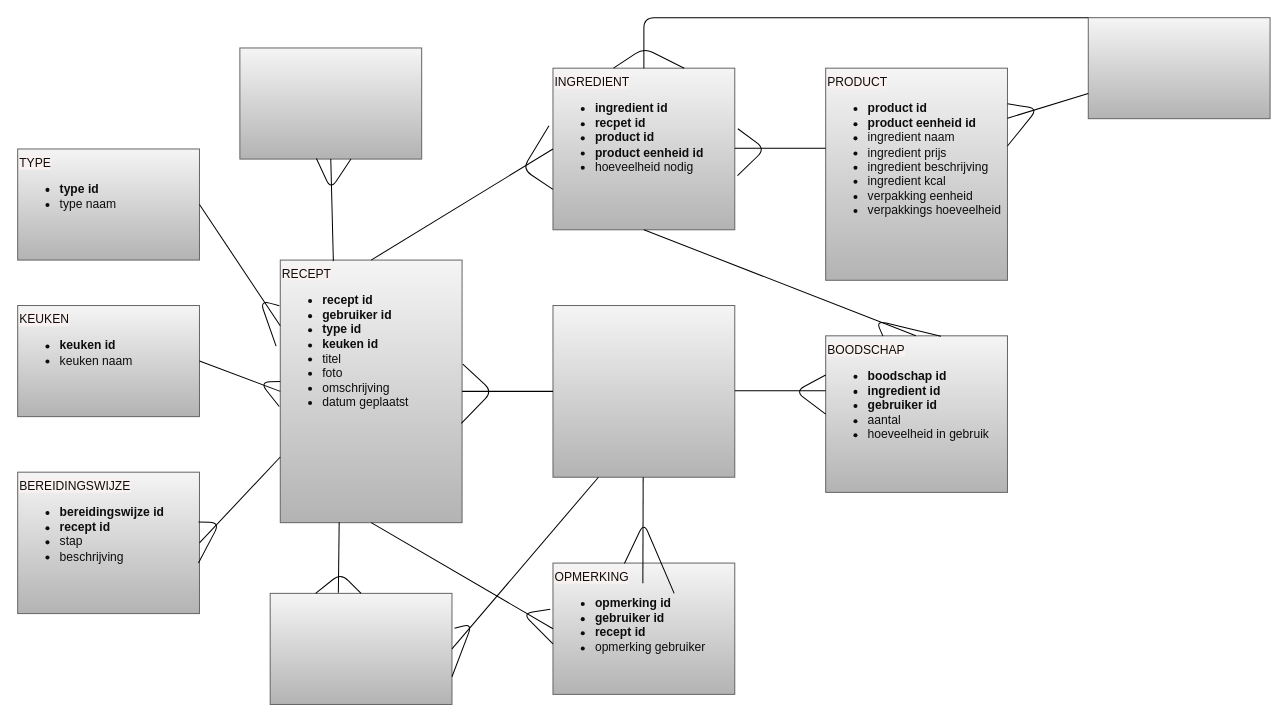
Image size: 1288x722. Some labels were removed from this diagram. Each missing label, with the centre of its shape:
"FAVORIET favoriet id recept id gebruiker id" belongs at point (360, 648).
"GEBRUIKER gebruiker id naam gebruiker foto gebruiker email wachtwoord" belongs at point (643, 391).
"PRODUCT-EENHEID product eenheid id eenheid" belongs at point (1178, 68).
"STERREN sterren id recept id beoordeling" belongs at point (330, 103).
